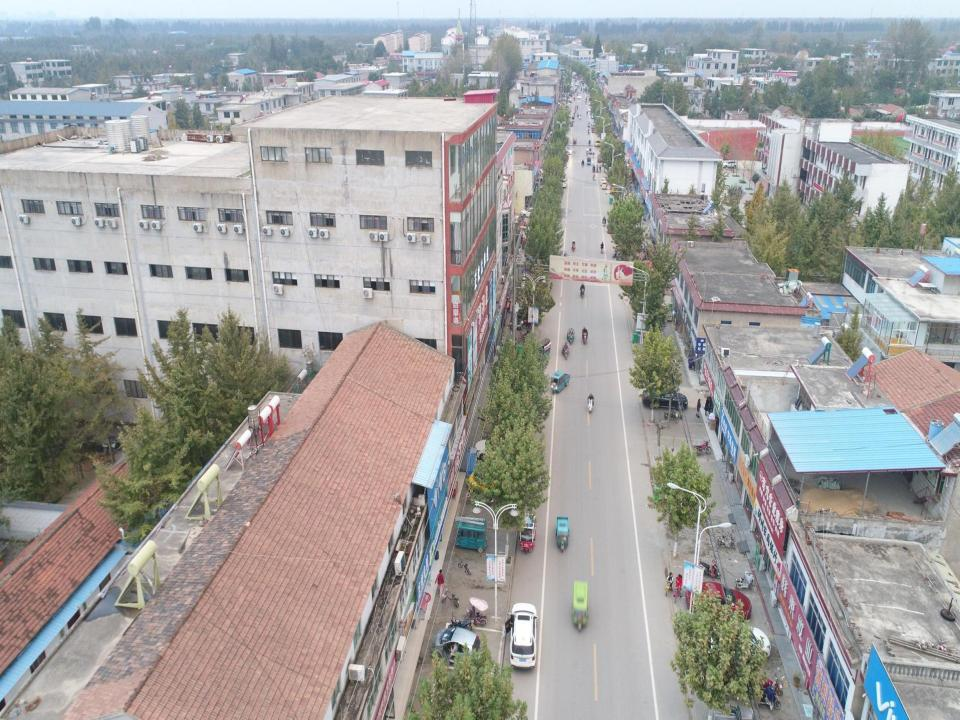car: (695, 618, 772, 666), (684, 580, 752, 624), (430, 626, 482, 672), (503, 602, 538, 669), (467, 467, 514, 498), (641, 386, 689, 413), (474, 434, 516, 464), (519, 206, 541, 218), (558, 176, 566, 189), (565, 146, 572, 155), (594, 140, 600, 147), (590, 113, 597, 119), (576, 93, 581, 100), (590, 108, 594, 116), (588, 106, 592, 110), (588, 101, 592, 105)
van: (534, 174, 548, 189)
